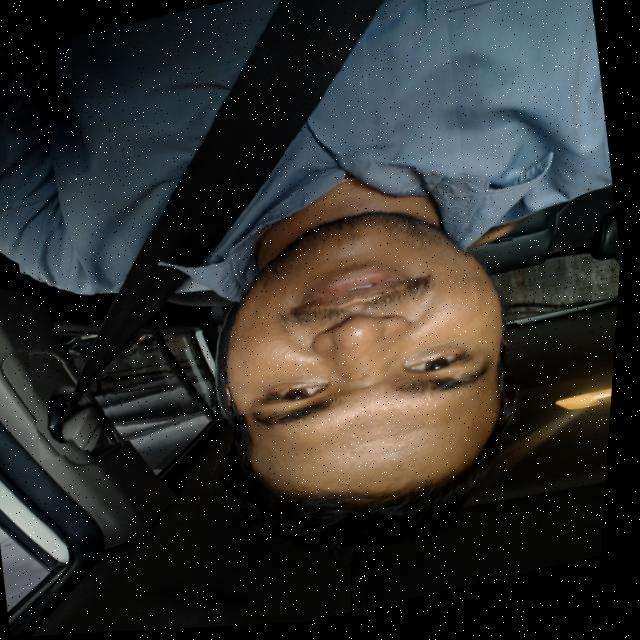seatbelt: (0, 0, 508, 462)
